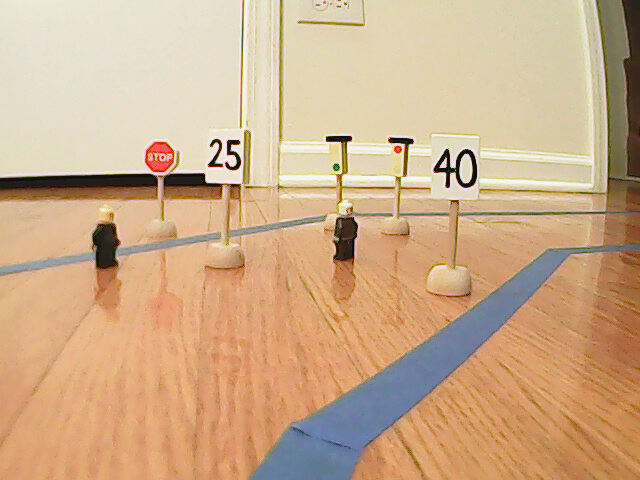Green Traffic Light: (323, 134, 351, 176)
Person: (91, 205, 124, 268), (330, 198, 359, 261)
Red Traffic Light: (389, 138, 411, 179)
Speed Limit 25: (205, 128, 248, 189)
Speed Limit 40: (431, 134, 480, 201)
Stop Sign: (144, 140, 178, 173)
